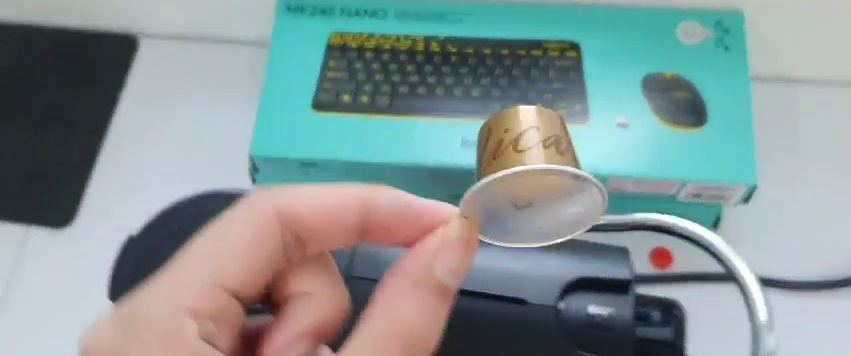capsule_9: (457, 102, 608, 251)
